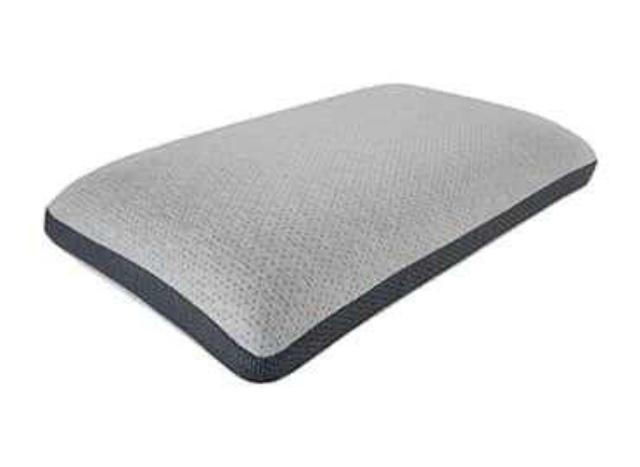pillow: (44, 80, 596, 384)
